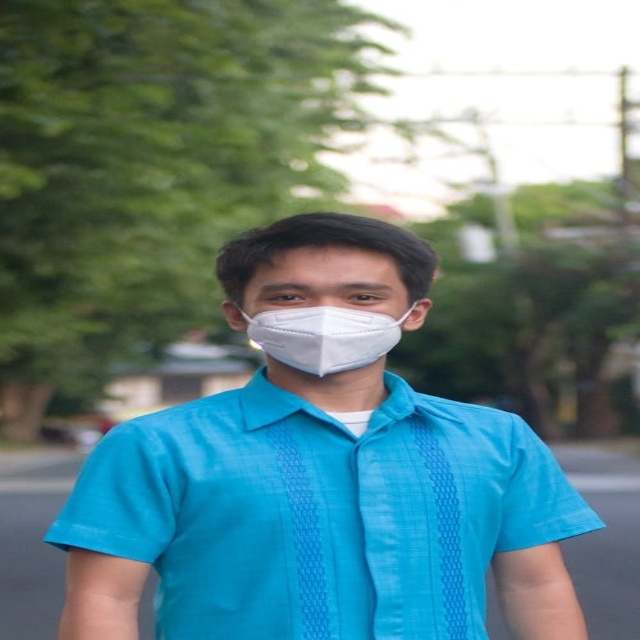Mascara: (240, 303, 414, 377)
Sin_gafas: (253, 279, 394, 308)
